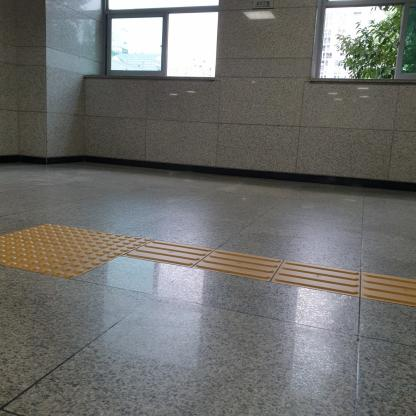go: (271, 260, 361, 297), (190, 249, 284, 281), (122, 239, 216, 268), (360, 272, 416, 306)
stop: (1, 245, 121, 280), (60, 231, 154, 256), (3, 223, 100, 244), (0, 235, 58, 265)
